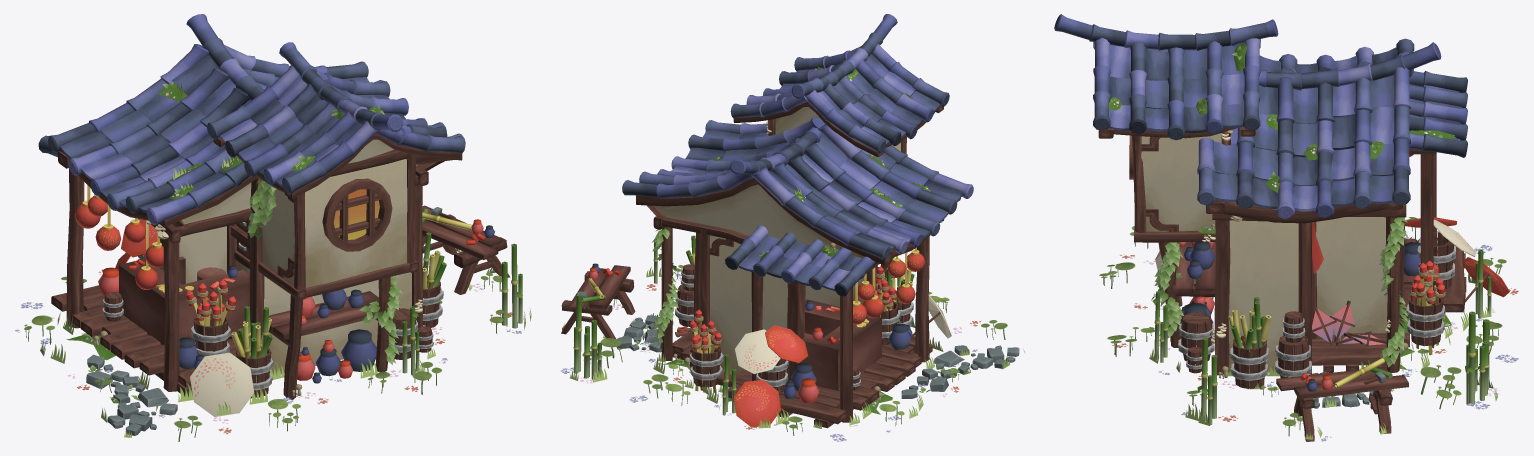
The model's file is shop.glb.
3 views of the same model, side by side, from view 1: azimuth 30°, elevation 25°; view 2: azimuth 150°, elevation 25°; view 3: azimuth 270°, elevation 25° (orthographic). The views are drawn at different scales.
Visible parts, largest first — view 1: Roof tiles003, Roof tiles004, Wall006, Counter, Roof tiles005, Wall005, UmbrellaWhite002, Wood002, Roof tiles007, Wood004, Cylinder028, Wall004 (+34 smaller); view 2: Roof tiles003, Roof tiles004, Roof tiles002, Roof tiles008, Wall002, Wall012, Counter, Roof tiles005, Wood084, Roof tiles007, Cylinder029, Wood004 (+23 smaller); view 3: Roof tiles002, Roof tiles005, Wall, Wall001, Wall003, Roof tiles008, Roof tiles007, Roof tiles006, Wood032, Roof tiles003, Wood082, Wood033 (+28 smaller).
Part boxes in pixels (left/top/right/bottom): Roof tiles003: left=48, top=44, right=250, bottom=224; Roof tiles004: left=207, top=65, right=378, bottom=194; Wall006: left=305, top=159, right=407, bottom=287; Counter: left=119, top=256, right=249, bottom=345; Roof tiles005: left=317, top=70, right=465, bottom=153; Wall005: left=264, top=272, right=411, bottom=375; UmbrellaWhite002: left=190, top=352, right=254, bottom=416; Wood002: left=163, top=238, right=179, bottom=391; Roof tiles007: left=279, top=42, right=403, bottom=132; Wood004: left=66, top=168, right=84, bottom=328; Cylinder028: left=322, top=178, right=392, bottom=251; Wall004: left=262, top=186, right=294, bottom=283; Roof tiles003: left=751, top=124, right=973, bottom=259; Roof tiles004: left=805, top=44, right=949, bottom=153; Roof tiles002: left=622, top=116, right=824, bottom=198; Roof tiles008: left=725, top=225, right=874, bottom=296; Wall002: left=710, top=235, right=787, bottom=374; Wall012: left=654, top=184, right=863, bottom=257; Counter: left=800, top=299, right=881, bottom=390; Roof tiles005: left=730, top=46, right=861, bottom=118; Wood084: left=636, top=178, right=892, bottom=265; Roof tiles007: left=791, top=14, right=897, bottom=98; Cylinder029: left=733, top=379, right=780, bottom=427; Wood004: left=840, top=287, right=852, bottom=422; Roof tiles002: left=1197, top=64, right=1410, bottom=219; Roof tiles005: left=1093, top=38, right=1260, bottom=140; Wall: left=1229, top=220, right=1298, bottom=372; Wall001: left=1316, top=217, right=1387, bottom=340; Wall003: left=1141, top=133, right=1221, bottom=231; Roof tiles008: left=1409, top=71, right=1467, bottom=157; Roof tiles007: left=1054, top=14, right=1278, bottom=50; Roof tiles006: left=1259, top=42, right=1441, bottom=90; Wood032: left=1214, top=220, right=1230, bottom=375; Roof tiles003: left=1259, top=38, right=1414, bottom=77; Wood082: left=1213, top=200, right=1384, bottom=223; Wood033: left=1298, top=222, right=1311, bottom=374.
Size of the model in its own units: 2.87 by 1.91 by 2.52.
2 materials, 2 textured.
